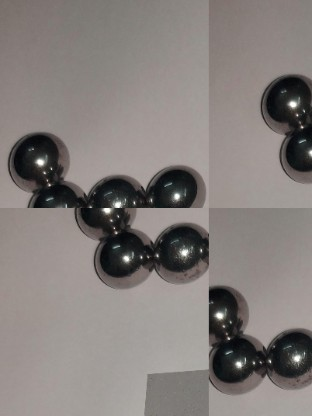ironball: (151, 214, 210, 284), (208, 337, 267, 402), (208, 275, 264, 342), (264, 322, 311, 400), (6, 125, 66, 184), (92, 229, 150, 289), (261, 68, 310, 129), (145, 162, 205, 203), (81, 170, 144, 206), (277, 121, 310, 184), (75, 205, 139, 234), (30, 178, 84, 204)
